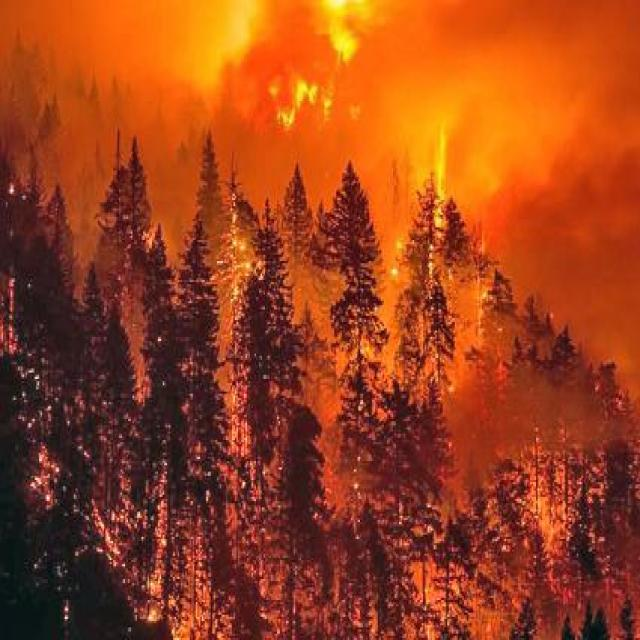Fire: (226, 308, 256, 530), (529, 452, 577, 558), (408, 566, 471, 640), (215, 212, 258, 308), (136, 532, 174, 640), (84, 498, 133, 564), (428, 132, 456, 236), (0, 270, 24, 364), (29, 444, 61, 514), (468, 595, 508, 640), (585, 469, 613, 509)
Smoke: (439, 374, 633, 504)
